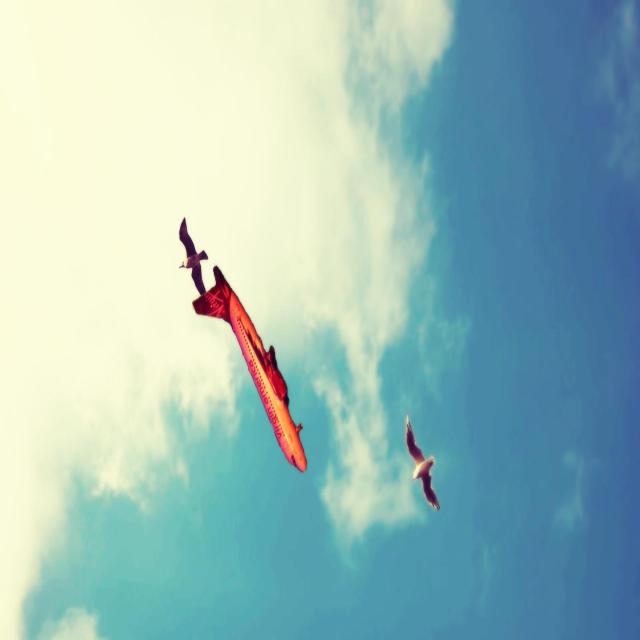airplane: (191, 268, 308, 473)
